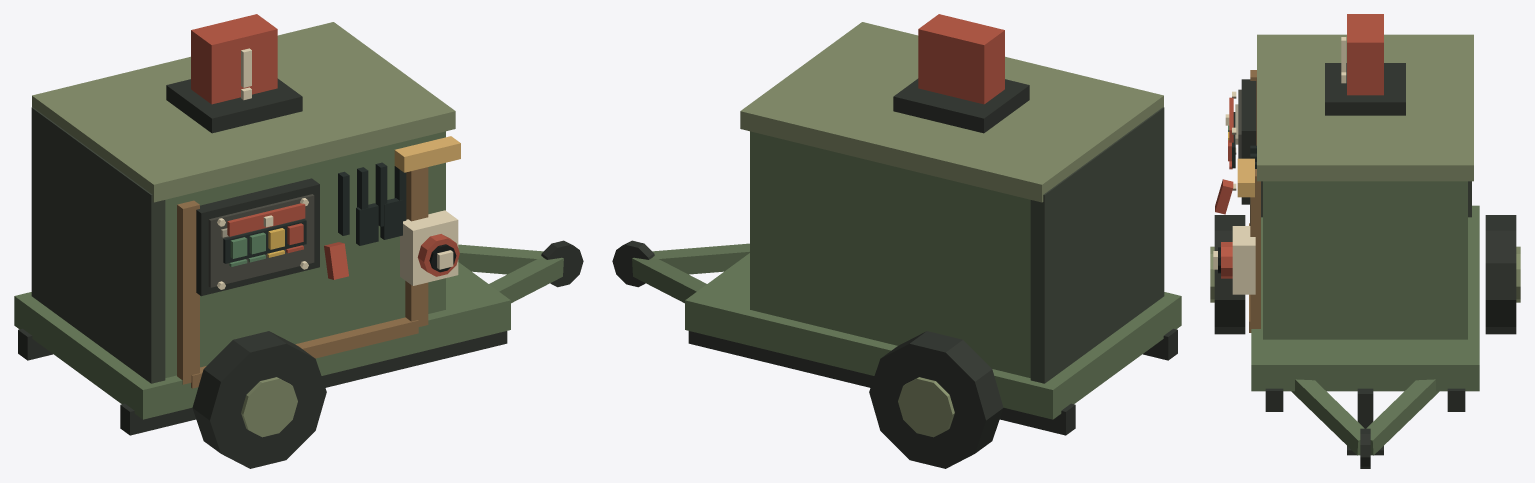
The model's file is lwf_towable_generator_fault_v1.glb.
3 renders of one model, left to right at view 1: azimuth 30°, elevation 25°; view 2: azimuth 150°, elevation 25°; view 3: azimuth 270°, elevation 25°, orthographic. The views are drawn at different scales.
Visible parts, largest first — view 1: LWF_Generator_Base, LWF_Generator_State_Fault; view 2: LWF_Generator_Base, LWF_Generator_State_Fault; view 3: LWF_Generator_Base, LWF_Generator_State_Fault.
Part boxes in pixels (x1,y1,x2,y2): LWF_Generator_Base: (14,22,583,468); LWF_Generator_State_Fault: (166,14,402,279); LWF_Generator_Base: (612,22,1181,468); LWF_Generator_State_Fault: (893,14,1029,133); LWF_Generator_Base: (1210,34,1520,468); LWF_Generator_State_Fault: (1215,14,1405,225).
Bounding box in the file's own units: 2.68 × 1.84 × 1.6.
Materials: 1 (1 with a texture image).
